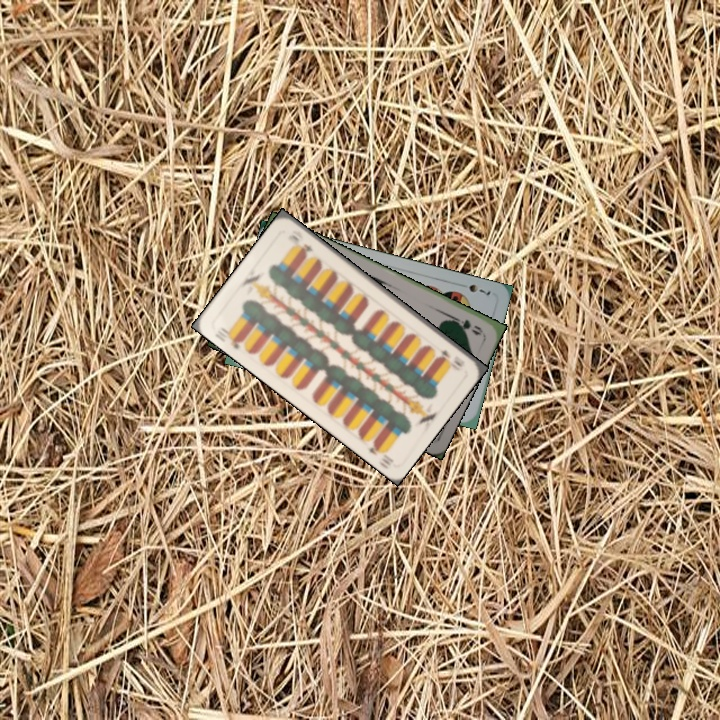E10: (216, 324, 246, 352), (436, 345, 468, 370)
GO: (446, 312, 486, 338)
S7: (465, 280, 493, 298)
